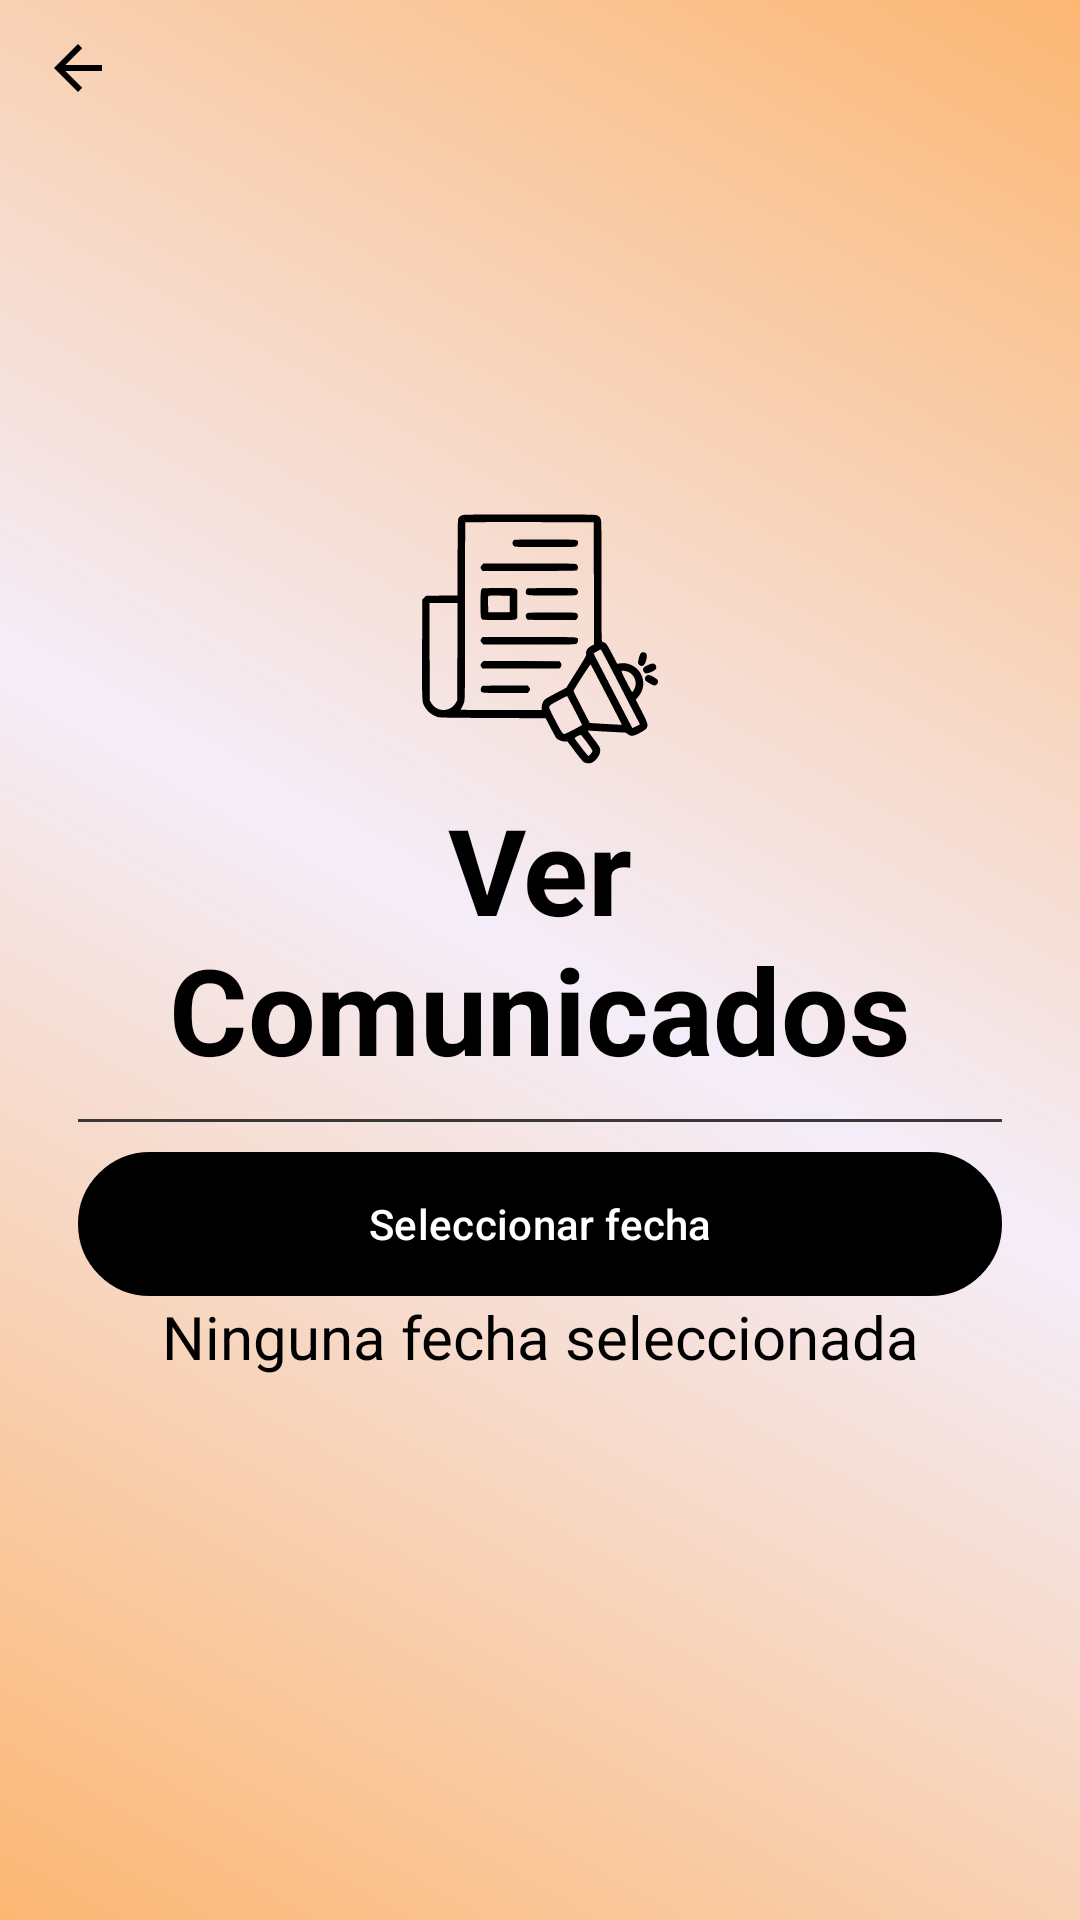

Icon click points for this 1080 x 1920 phone screenshot, format [x,y]:
Volver: [78,68]
